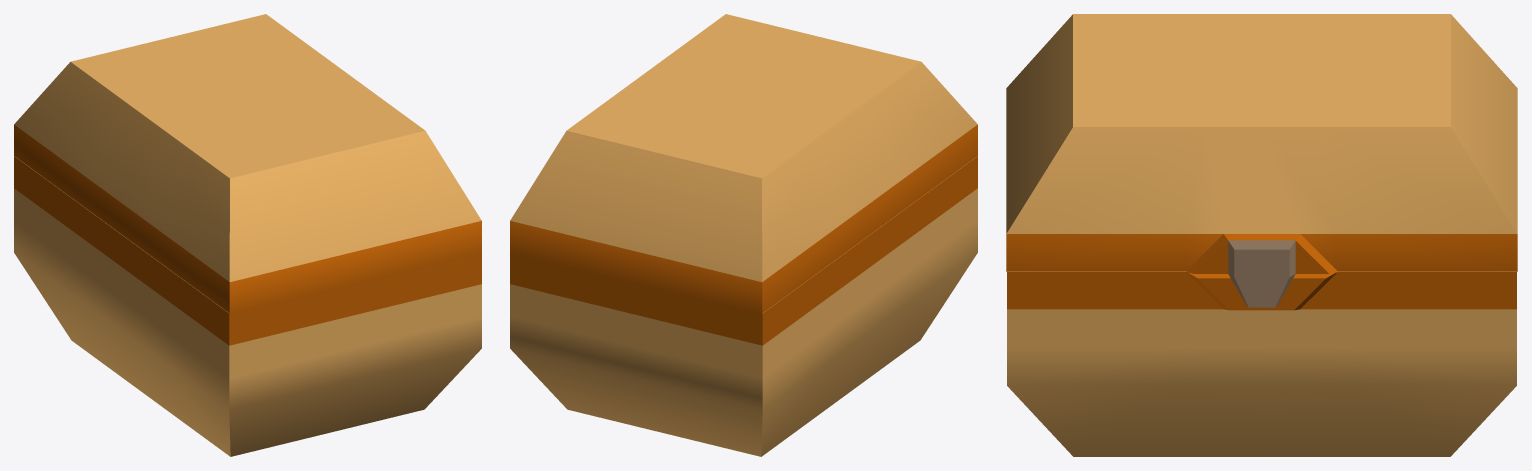
Rendered from _sampleChest.fbx.
3 views of the same model, side by side, from view 1: azimuth 30°, elevation 25°; view 2: azimuth 150°, elevation 25°; view 3: azimuth 270°, elevation 25° (orthographic). The views are drawn at different scales.
Visible parts, largest first — view 1: polySurface3, polySurface4; view 2: polySurface3, polySurface4; view 3: polySurface3, polySurface4.
Part boxes in pixels (x1,y1,x2,y2): polySurface3: (14, 14, 481, 314); polySurface4: (14, 156, 481, 456); polySurface3: (510, 14, 977, 314); polySurface4: (510, 156, 977, 456); polySurface3: (1006, 14, 1517, 307); polySurface4: (1007, 271, 1516, 456).
Size of the model in its own units: 12.18 by 12.37 by 17.34.
